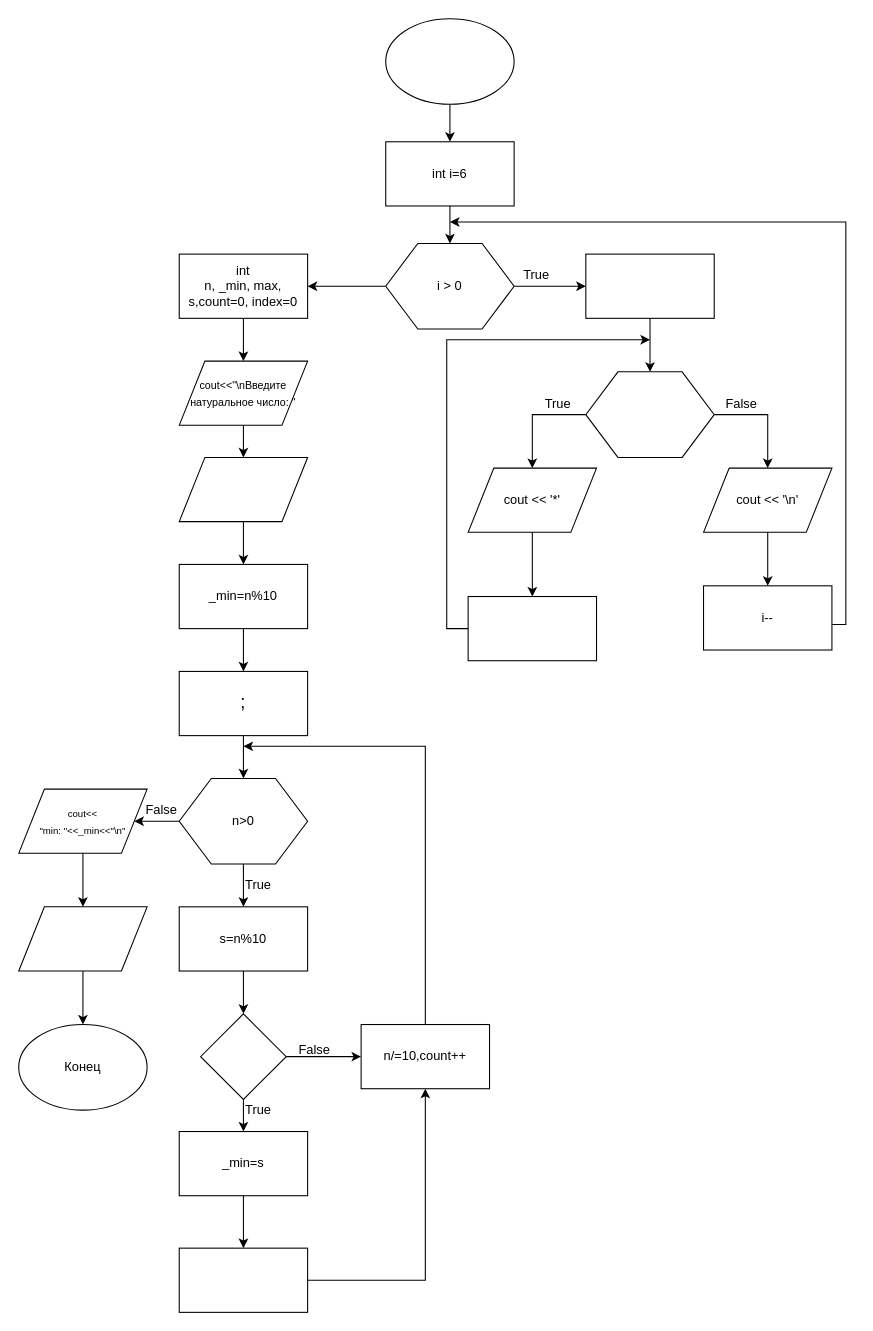
This 873x1331 diagram has some shape labels left out. Each missing label, with the centre of its shape:
cin>>n: the point at 243,489
cout<< "index: "<<count-index: the point at 82,938
index=count: the point at 243,1279
int j = i: the point at 649,285
j > 0: the point at 649,414
j--: the point at 532,628
s<_min: the point at 243,1056
Начало: the point at 449,61
